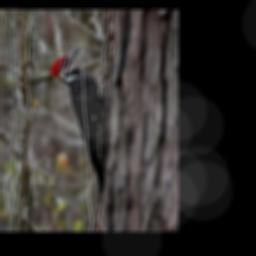Woodpecker: (47, 47, 112, 199)
